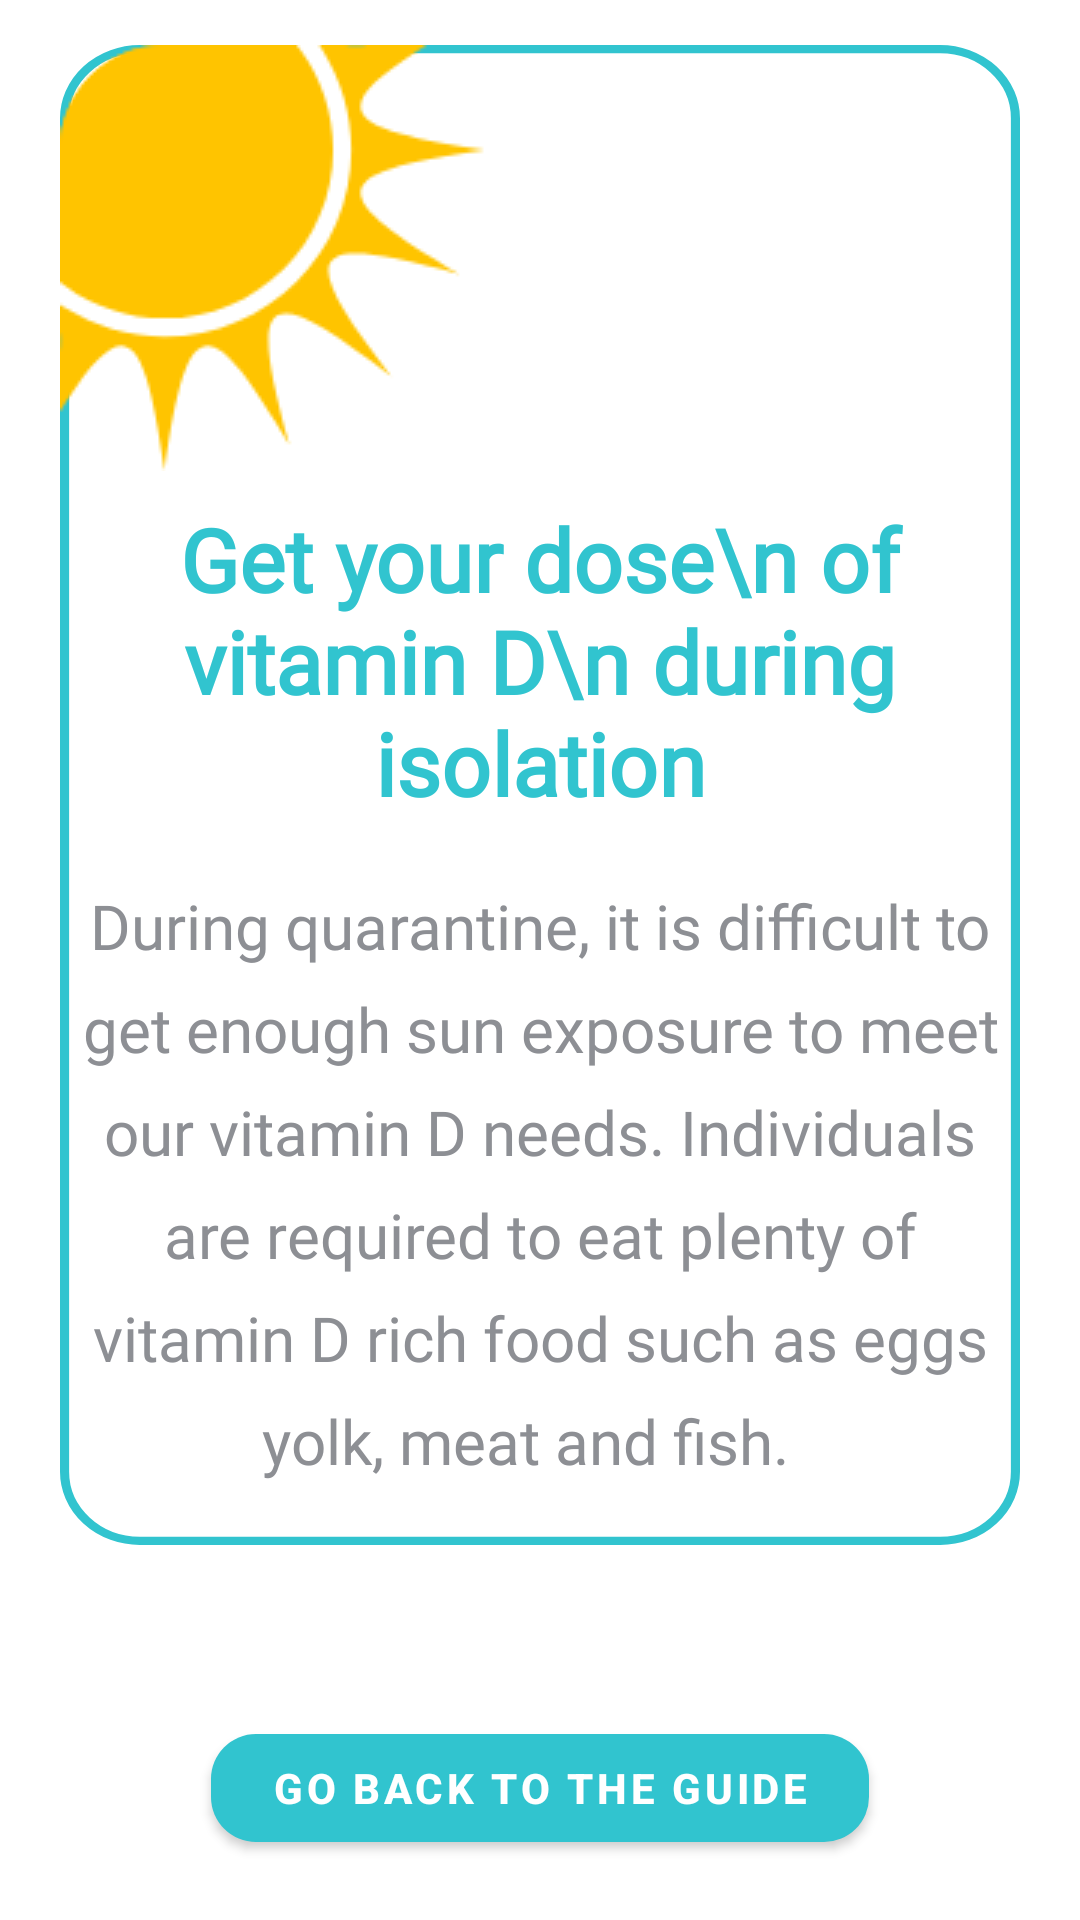

Icons on this 1080×1920 Android screen, each with the point to tap as [x,y]:
sun: [197,182]
